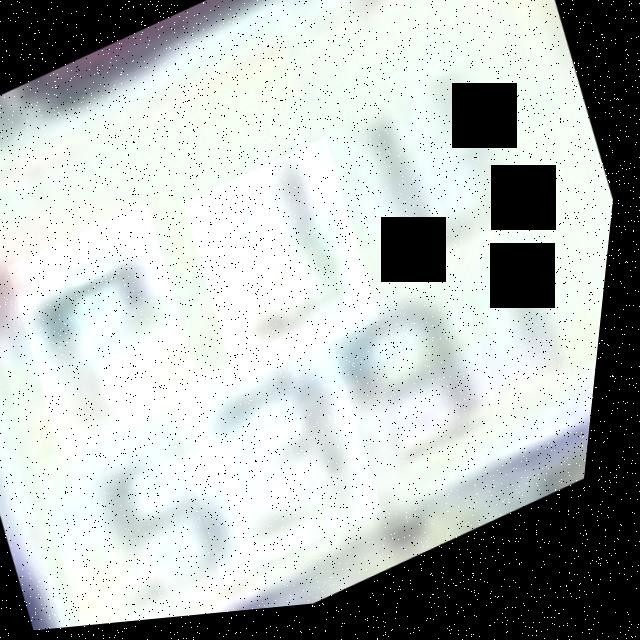5: (30, 381, 292, 634)
9: (159, 318, 410, 596), (292, 246, 536, 527)
J: (172, 138, 403, 397)
P: (0, 200, 228, 466)
